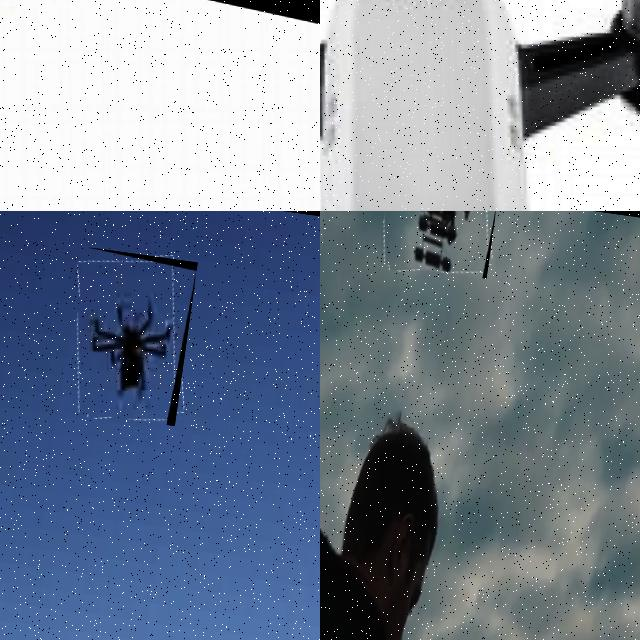drone: (0, 0, 320, 211), (320, 0, 640, 211), (64, 247, 198, 426), (377, 211, 497, 279)
